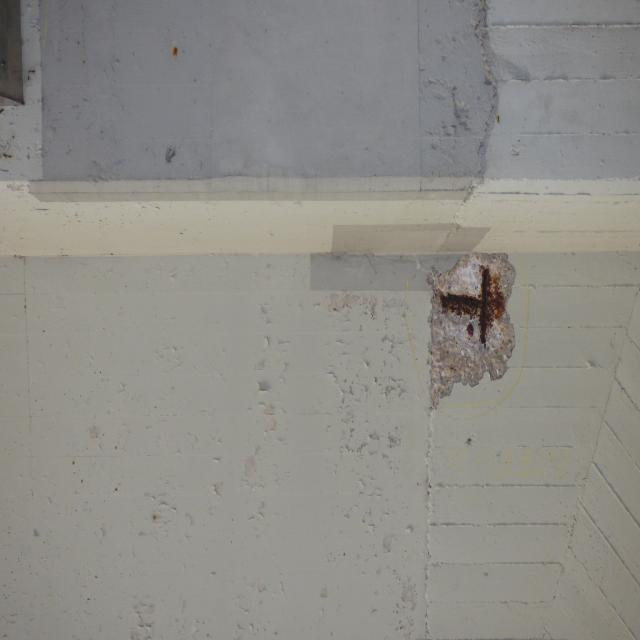corrosion: (438, 261, 514, 349), (169, 42, 184, 64)
